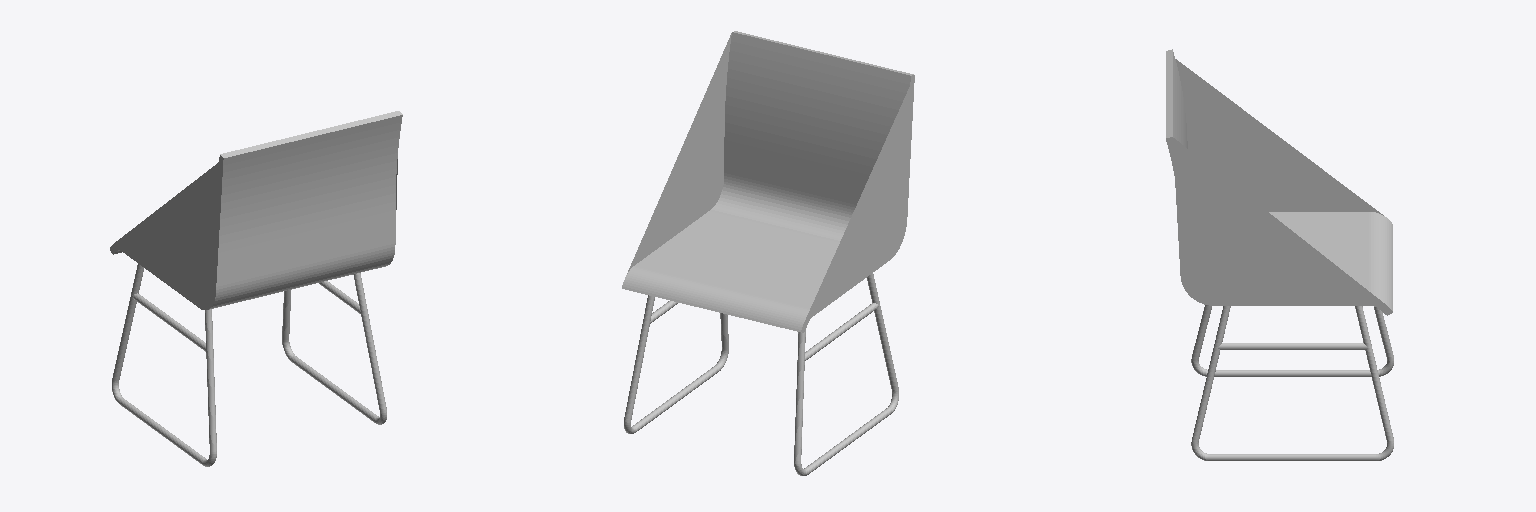
File: lobby chair.obj
3 views of the same model, side by side, from view 1: azimuth 30°, elevation 25°; view 2: azimuth 150°, elevation 25°; view 3: azimuth 270°, elevation 25° (orthographic).
Visible parts, largest first — view 1: Mesh7 Component_7_1 Model, Mesh2 Component_2_1 Component_6_1 Model, Mesh1 Component_1_1 Component_6_1 Model, Mesh4 Component_3_2 Component_6_1 Model; view 2: Mesh7 Component_7_1 Model, Mesh2 Component_2_1 Component_6_1 Model, Mesh1 Component_1_1 Component_6_1 Model, Mesh4 Component_3_2 Component_6_1 Model; view 3: Mesh7 Component_7_1 Model, Mesh1 Component_1_1 Component_6_1 Model, Mesh2 Component_2_1 Component_6_1 Model, Mesh3 Component_3_1 Component_6_1 Model.
Part boxes in pixels (bbox=[...]): Mesh7 Component_7_1 Model: bbox=[110, 111, 402, 309]; Mesh2 Component_2_1 Component_6_1 Model: bbox=[112, 264, 216, 466]; Mesh1 Component_1_1 Component_6_1 Model: bbox=[282, 273, 386, 424]; Mesh4 Component_3_2 Component_6_1 Model: bbox=[132, 293, 206, 351]; Mesh7 Component_7_1 Model: bbox=[622, 31, 914, 332]; Mesh2 Component_2_1 Component_6_1 Model: bbox=[794, 273, 898, 475]; Mesh1 Component_1_1 Component_6_1 Model: bbox=[624, 295, 728, 433]; Mesh4 Component_3_2 Component_6_1 Model: bbox=[804, 303, 879, 360]; Mesh7 Component_7_1 Model: bbox=[1166, 49, 1392, 315]; Mesh1 Component_1_1 Component_6_1 Model: bbox=[1191, 306, 1393, 460]; Mesh2 Component_2_1 Component_6_1 Model: bbox=[1191, 305, 1393, 376]; Mesh3 Component_3_1 Component_6_1 Model: bbox=[1218, 343, 1367, 349].
Size of the model in its own units: 22.08 by 38.32 by 24.41.